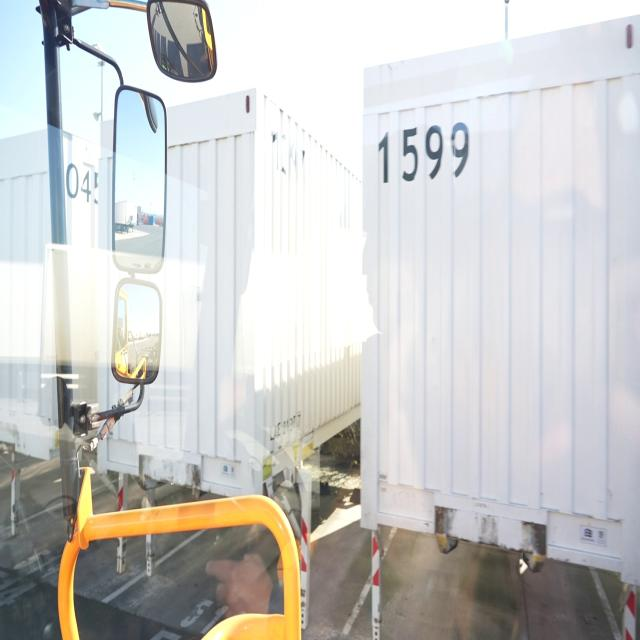Code: (379, 121, 470, 190)
